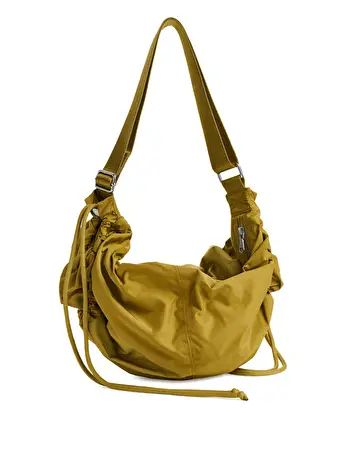nylon: (58, 17, 285, 382)
